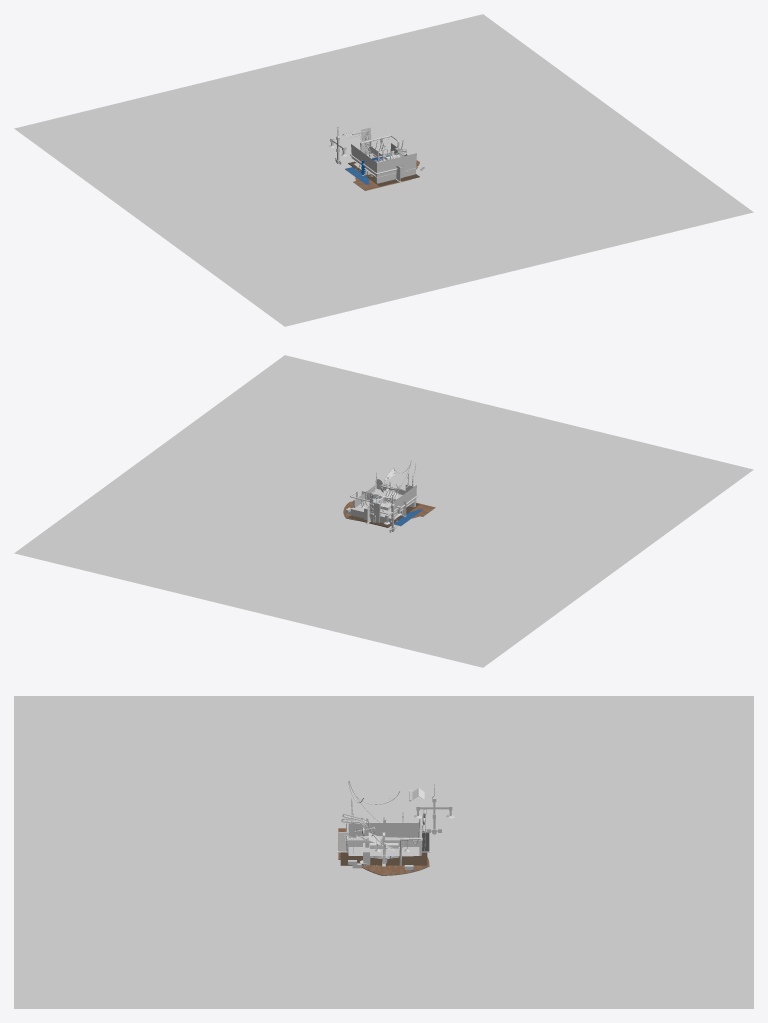
Rendered from scene-optimized.baked.glb.
3 views of the same model, one above another, from view 1: azimuth 30°, elevation 25°; view 2: azimuth 150°, elevation 25°; view 3: azimuth 270°, elevation 25° (orthographic). The views are drawn at different scales.
Visible parts, largest first — view 1: floor, chunk_2; view 2: floor; view 3: floor, chunk_3, chunk_15, roof, Mesh_62.
Boxes of the visible parts, bbox=[...] form: floor: bbox=[14, 14, 753, 326]; chunk_2: bbox=[351, 144, 416, 183]; floor: bbox=[14, 355, 753, 667]; floor: bbox=[14, 696, 753, 1008]; chunk_3: bbox=[348, 823, 419, 837]; chunk_15: bbox=[341, 808, 426, 855]; roof: bbox=[340, 852, 427, 865]; Mesh_62: bbox=[338, 828, 429, 875].
Bounding box in the file's own units: 1635143 × 303480 × 1635143.
Materials: 111 (54 with a texture image).
